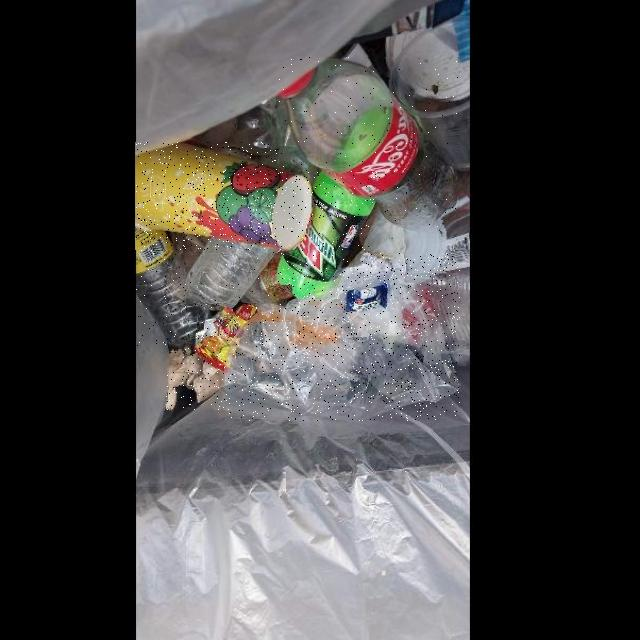paper: (136, 142, 313, 250), (166, 347, 225, 409)
plastic: (226, 253, 460, 420), (278, 57, 459, 231), (278, 170, 375, 298), (136, 229, 207, 346), (187, 238, 279, 311)
wrapper: (194, 303, 261, 373), (345, 284, 388, 312)
